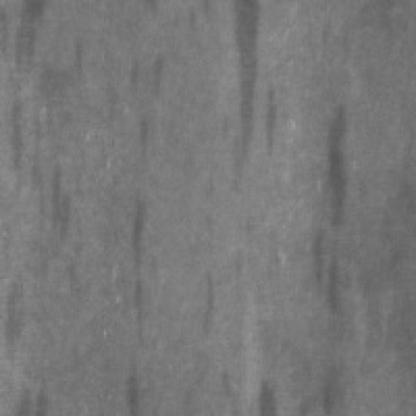inclusion: (106, 191, 162, 408), (216, 0, 266, 198), (312, 94, 356, 226), (27, 148, 75, 260), (302, 214, 343, 323), (117, 46, 160, 116), (190, 258, 221, 352), (127, 104, 154, 168)
